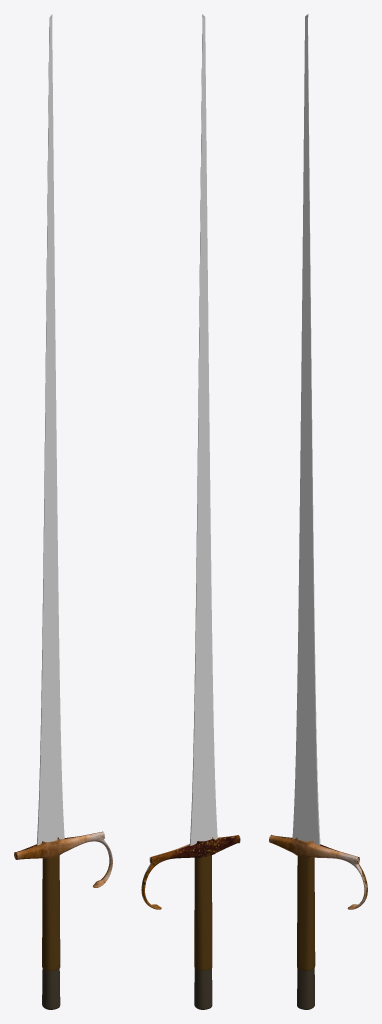
File: sword.FBX
3 views of the same model, side by side, from view 1: azimuth 30°, elevation 25°; view 2: azimuth 210°, elevation 25°; view 3: azimuth 330°, elevation 25° (orthographic).
Visible parts, largest first — view 1: Sword_blade, Sword_straight_handle, Sword_handle, Sword_tip; view 2: Sword_blade, Sword_straight_handle, Sword_handle, Sword_tip; view 3: Sword_blade, Sword_straight_handle, Sword_handle, Sword_tip.
Boxes of the visible parts, x1,y1,x2,y2 form: Sword_blade: (36, 14, 64, 845); Sword_straight_handle: (42, 855, 60, 970); Sword_handle: (14, 831, 112, 887); Sword_tip: (42, 968, 60, 1009); Sword_blade: (190, 14, 217, 845); Sword_straight_handle: (194, 855, 212, 970); Sword_handle: (141, 835, 240, 909); Sword_tip: (194, 968, 212, 1009); Sword_blade: (292, 14, 320, 845); Sword_straight_handle: (297, 856, 315, 970); Sword_handle: (269, 834, 367, 909); Sword_tip: (297, 968, 314, 1009).
Size of the model in its own units: 8.59 by 84.64 by 1.36.
